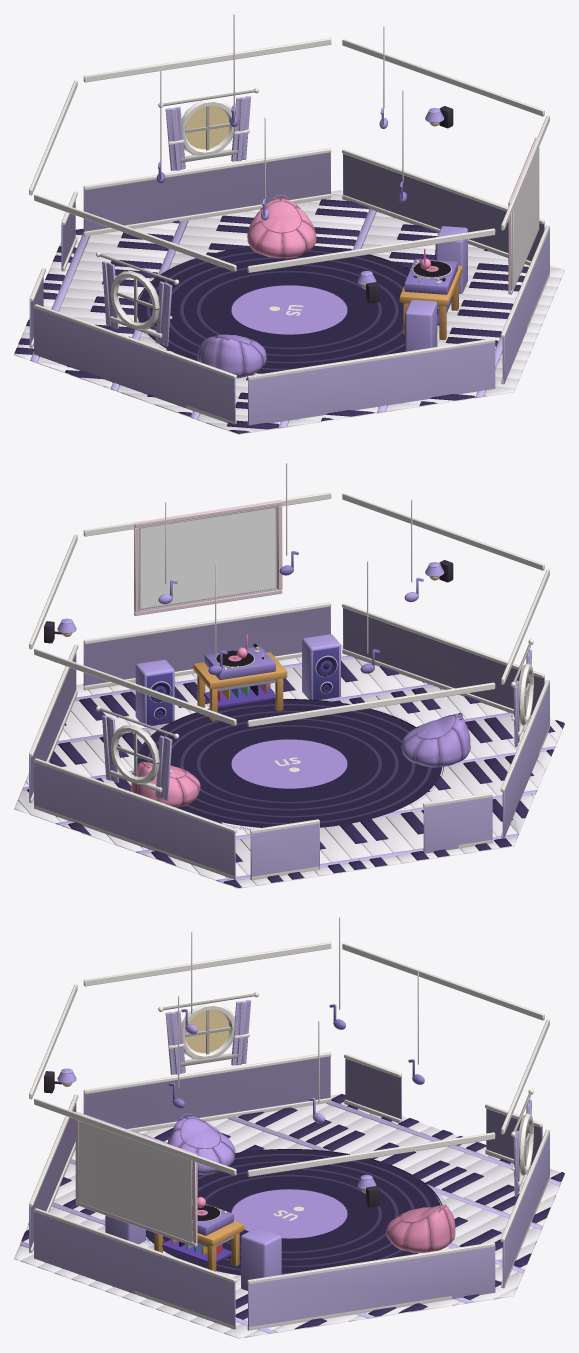
The model's file is zon_room_song.glb.
3 views of the same model, one above another, from view 1: azimuth 30°, elevation 25°; view 2: azimuth 150°, elevation 25°; view 3: azimuth 270°, elevation 25° (orthographic).
Parts seen in each view (by area): view 1: SM_zon_room_song_room_floor_plaster_x0_z0, SM_zon_room_song_room_rug_fabric_x0_z0, SM_zon_room_song_room_floor_glaze_x0_z0, SM_zon_room_song_room_floor_gloss_x0_z0, SM_zon_room_song_room_floor_fabric_x0_z0, ANIM_fur_speaker_song_box__1, SM_zon_room_song_glow_vc_x0_z0, SM_zon_room_song_room_floor_wood_x0_z0, ANIM_fur_speaker_song_box__0; view 2: SM_zon_room_song_room_floor_plaster_x0_z0, SM_zon_room_song_room_rug_fabric_x0_z0, SM_zon_room_song_room_floor_glaze_x0_z0, SCREEN_fur_screen_song__0, SM_zon_room_song_room_floor_gloss_x0_z0, SM_zon_room_song_room_floor_fabric_x0_z0, ANIM_fur_speaker_song_box__1, ANIM_fur_speaker_song_box__0, SM_zon_room_song_room_floor_wood_x0_z0; view 3: SM_zon_room_song_room_floor_plaster_x0_z0, SM_zon_room_song_room_floor_glaze_x0_z0, SM_zon_room_song_room_rug_fabric_x0_z0, SM_zon_room_song_room_floor_gloss_x0_z0, SM_zon_room_song_room_floor_fabric_x0_z0, ANIM_fur_speaker_song_box__0, SM_zon_room_song_room_floor_wood_x0_z0, SM_zon_room_song_glow_vc_x0_z0, ANIM_fur_speaker_song_box__1.
Boxes of the visible parts, x1,y1,x2,y2 form: SM_zon_room_song_room_floor_plaster_x0_z0: [29, 14, 549, 425]; SM_zon_room_song_room_rug_fabric_x0_z0: [137, 246, 438, 373]; SM_zon_room_song_room_floor_glaze_x0_z0: [14, 190, 564, 434]; SM_zon_room_song_room_floor_gloss_x0_z0: [14, 199, 528, 433]; SM_zon_room_song_room_floor_fabric_x0_z0: [197, 195, 316, 378]; ANIM_fur_speaker_song_box__1: [404, 299, 437, 351]; SM_zon_room_song_glow_vc_x0_z0: [185, 106, 439, 289]; SM_zon_room_song_room_floor_wood_x0_z0: [399, 265, 462, 339]; ANIM_fur_speaker_song_box__0: [435, 226, 467, 293]; SM_zon_room_song_room_floor_plaster_x0_z0: [29, 463, 549, 880]; SM_zon_room_song_room_rug_fabric_x0_z0: [137, 698, 443, 830]; SM_zon_room_song_room_floor_glaze_x0_z0: [14, 644, 564, 888]; SCREEN_fur_screen_song__0: [140, 508, 275, 608]; SM_zon_room_song_room_floor_gloss_x0_z0: [27, 643, 564, 887]; SM_zon_room_song_room_floor_fabric_x0_z0: [131, 712, 470, 807]; ANIM_fur_speaker_song_box__1: [302, 634, 340, 700]; ANIM_fur_speaker_song_box__0: [135, 659, 174, 726]; SM_zon_room_song_room_floor_wood_x0_z0: [193, 652, 287, 721]; SM_zon_room_song_room_floor_plaster_x0_z0: [29, 917, 549, 1330]; SM_zon_room_song_room_floor_glaze_x0_z0: [14, 1094, 564, 1338]; SM_zon_room_song_room_rug_fabric_x0_z0: [144, 1149, 446, 1275]; SM_zon_room_song_room_floor_gloss_x0_z0: [21, 1094, 564, 1329]; SM_zon_room_song_room_floor_fabric_x0_z0: [167, 1113, 455, 1252]; ANIM_fur_speaker_song_box__0: [241, 1227, 281, 1290]; SM_zon_room_song_room_floor_wood_x0_z0: [154, 1221, 244, 1271]; SM_zon_room_song_glow_vc_x0_z0: [62, 1010, 365, 1192]; ANIM_fur_speaker_song_box__1: [105, 1215, 145, 1244].
Bounding box in the file's own units: 10.44 × 4.99 × 9.96.
